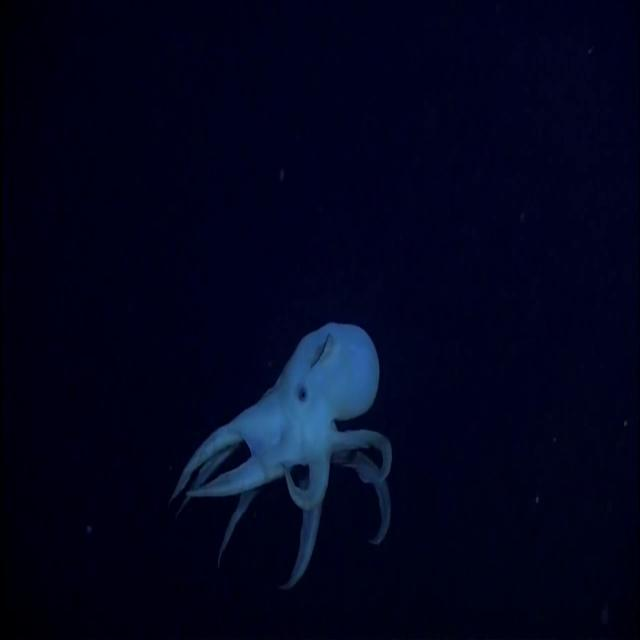octopus: (168, 318, 394, 598)
